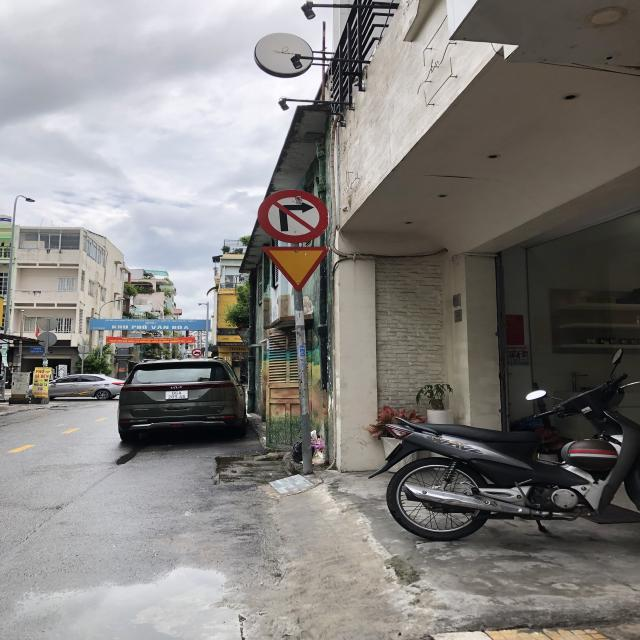Bien bao cam re phai: (257, 184, 333, 240)
Bien bao giao nhau voi duong uu tien: (259, 242, 329, 292)
